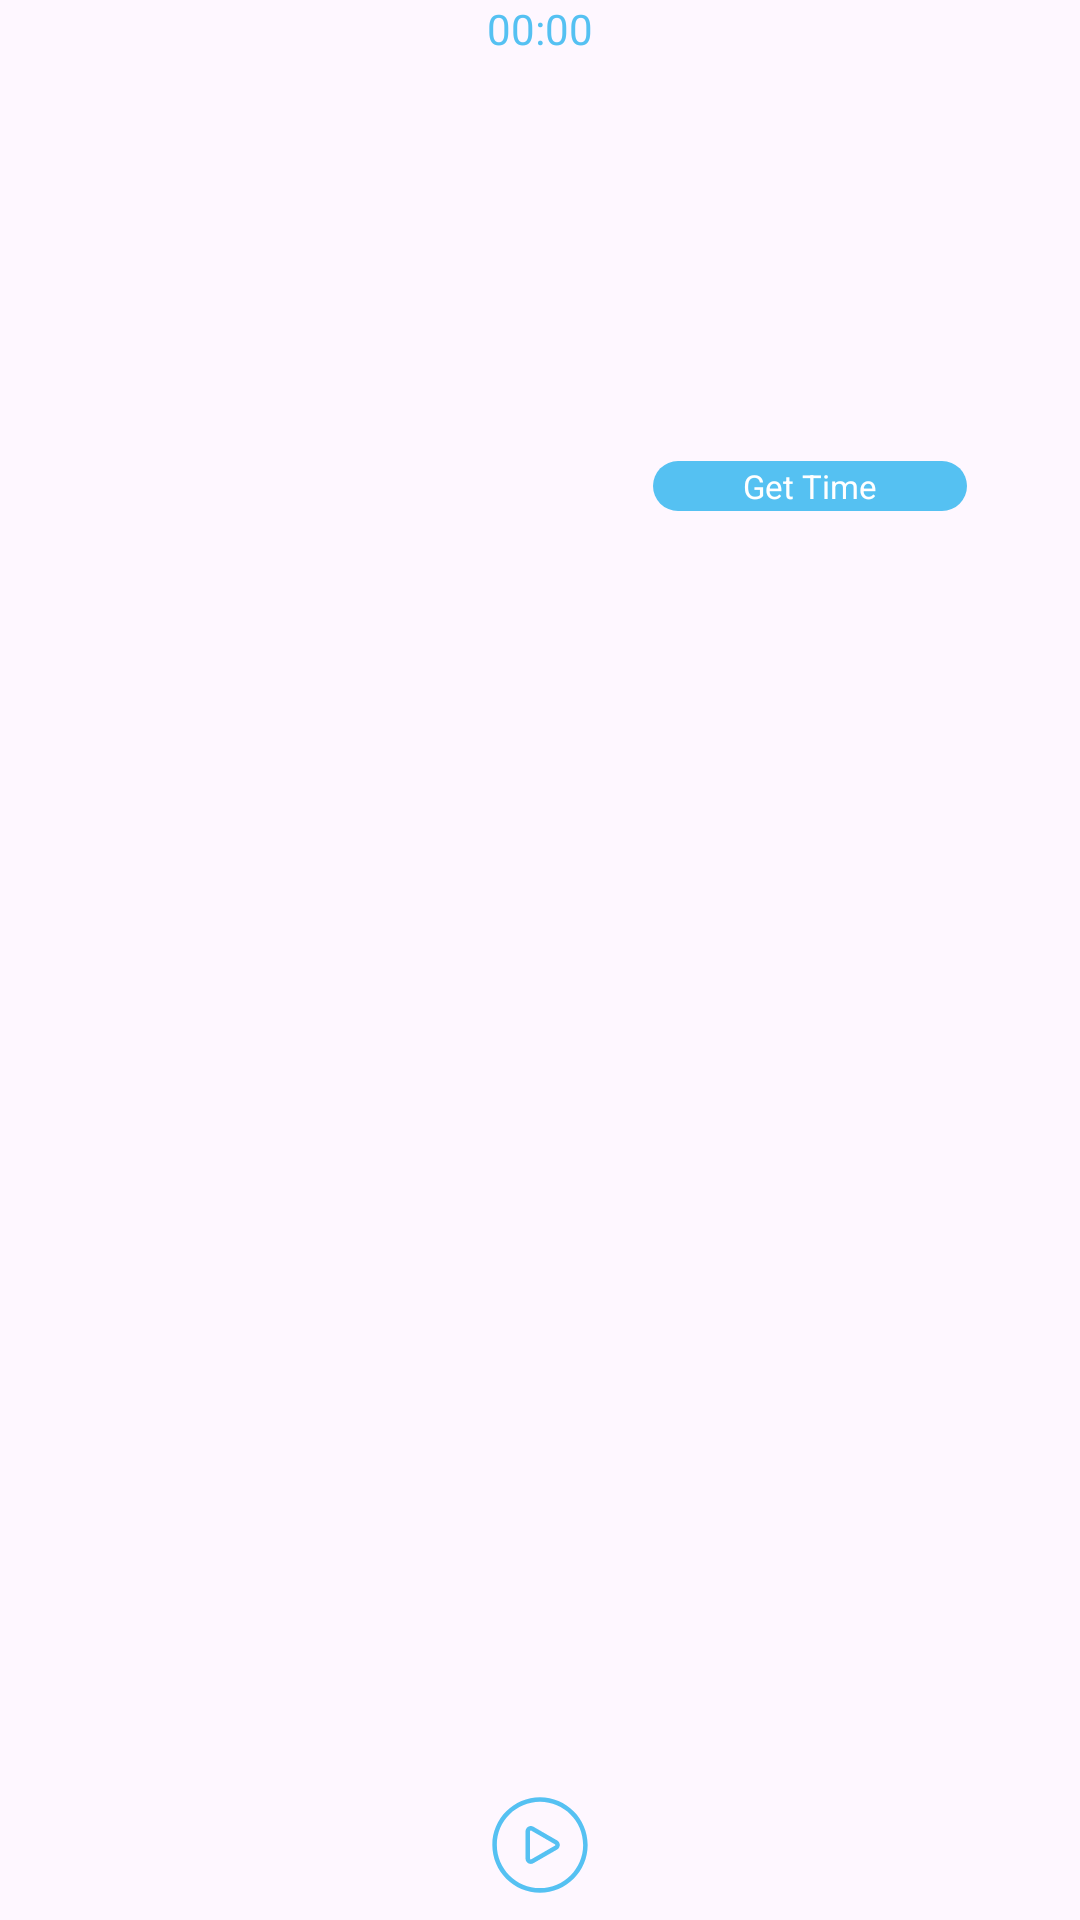

Where to tap for icons on this 1080w x 1920h app screen, as (x,y):
play: (540,1845)
